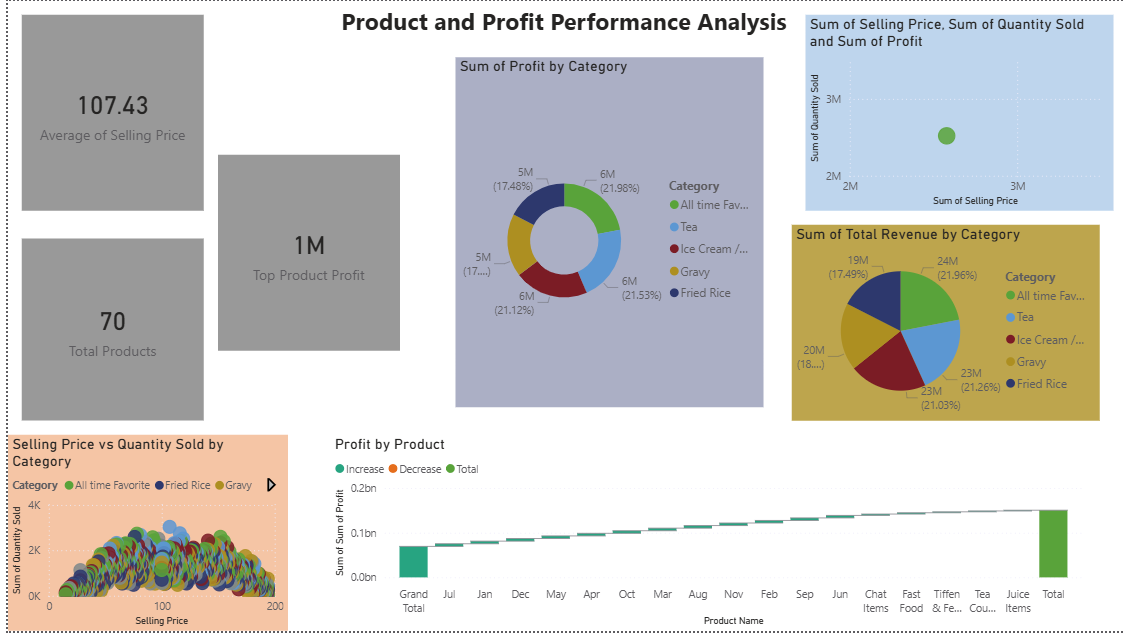

The page's visual inventory and layout, read from the dashboard file:
{"tool":"powerbi","page":{"name":"parry\"s corner(11 to 15)","canvas":[1280,720],"ordinal":2},"visuals":[{"type":"waterfallChart","title":"Profit by Product ","fields":{"Category":["Month.Product Name"],"Y":["Sum(Month.Sum of Profit)"]},"box":[368,496,864,224],"z":0},{"type":"scatterChart","title":"Selling Price vs Quantity Sold by Category","fields":{"X":["Overall sheet.Selling Price"],"Y":["Sum(Overall sheet.Quantity Sold)"],"Series":["Overall sheet.Category"],"Size":["Sum(Counter.Sum of Total Revenue)"]},"box":[0,496,320,224],"z":1000},{"type":"scatterChart","fields":{"X":["Sum(Overall sheet.Selling Price)"],"Y":["Sum(Overall sheet.Quantity Sold)"],"Size":["Sum(Overall sheet.Profit)"]},"box":[896,16,352,224],"z":2000},{"type":"pieChart","fields":{"Y":["Sum(Overall sheet.Total Revenue)"],"Category":["Overall sheet.Category"]},"box":[896,256,352,224],"z":3000},{"type":"donutChart","fields":{"Y":["Sum(Overall sheet.Profit)"],"Category":["Overall sheet.Category"]},"box":[512,64,352,400],"z":4000},{"type":"card","fields":{"Values":["Overall sheet.Total Products"]},"box":[16,272,208,208],"z":5000},{"type":"card","fields":{"Values":["Overall sheet.Top Product Profit"]},"box":[240,176,208,224],"z":6000},{"type":"card","fields":{"Values":["Avg(Overall sheet.Selling Price)"]},"box":[16,16,208,224],"z":7000},{"type":"textbox","box":[376,0,528,48],"z":8000}]}

Visuals, with their boxes in screenshot pixels (x1, y1, x2, y2), scaled from the page's 1280x720 canvas onto the 1125x637 screenshot:
"Profit by Product " waterfallChart: 323 439 1083 636
"Selling Price vs Quantity Sold by Category" scatterChart: 0 439 281 636
scatterChart - Sum(Overall sheet.Selling Price) x Sum(Overall sheet.Quantity Sold): 788 14 1097 212
pieChart - Sum(Overall sheet.Total Revenue) x Overall sheet.Category: 788 226 1097 425
donutChart - Sum(Overall sheet.Profit) x Overall sheet.Category: 450 57 759 411
card - Overall sheet.Total Products: 14 241 197 425
card - Overall sheet.Top Product Profit: 211 156 394 354
card - Avg(Overall sheet.Selling Price): 14 14 197 212
textbox: 330 0 795 42
